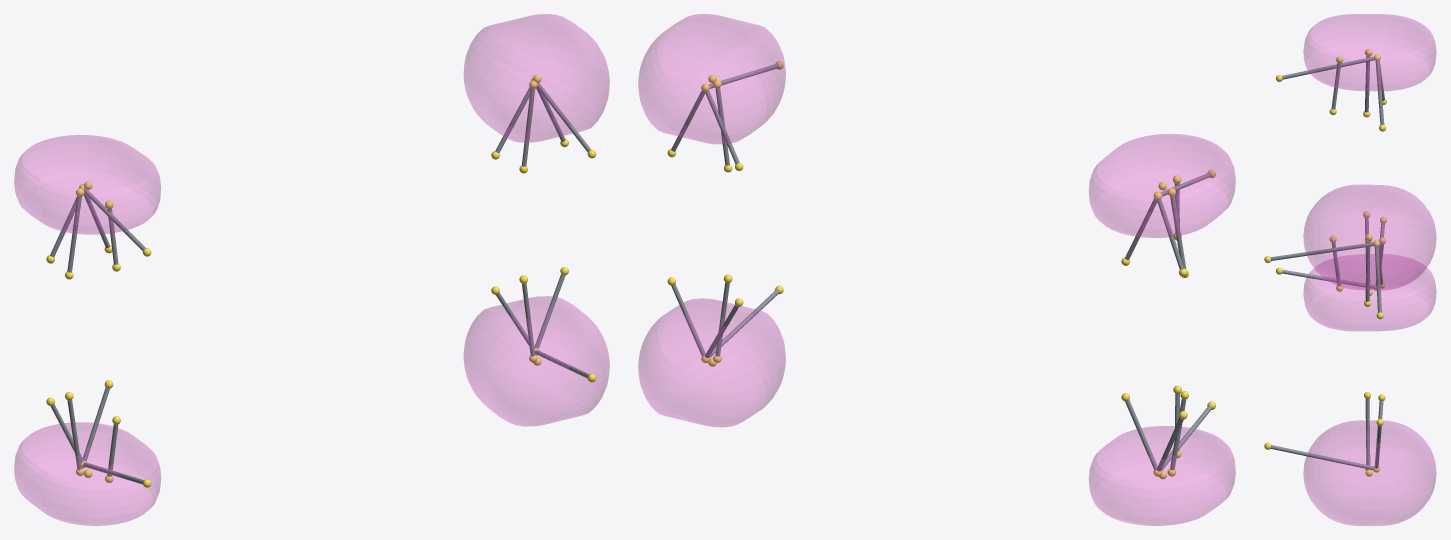
Rendered from modern_car_v2_track_suspension_kinematics.glb.
The picture shows the model from 3 angles, left to right: view 1: azimuth 30°, elevation 25°; view 2: azimuth 150°, elevation 25°; view 3: azimuth 270°, elevation 25°; orthographic projection. The views are drawn at different scales.
Visible parts, largest first — view 1: tyre_sweep_front_right, tyre_sweep_front_left, tyre_sweep_rear_right, tyre_sweep_rear_left; view 2: tyre_sweep_front_right, tyre_sweep_front_left, tyre_sweep_rear_right, tyre_sweep_rear_left; view 3: tyre_sweep_front_right, tyre_sweep_front_left, tyre_sweep_rear_right, tyre_sweep_rear_left, link_front_left_strut_top_ball_joint, link_front_right_strut_top_ball_joint, link_rear_right_damper_top_lower_link_outer, link_rear_left_damper_top_lower_link_outer, link_front_right_lower_arm_front_inner_ball_joint, link_front_left_tie_rod_inner_tie_rod_outer, link_rear_right_lower_link_front_inner_lower_link_outer, link_front_right_tie_rod_inner_tie_rod_outer (+1 smaller).
Boxes of the visible parts, x1,y1,x2,y2 form: tyre_sweep_front_right: [464, 14, 609, 142]; tyre_sweep_front_left: [464, 296, 609, 426]; tyre_sweep_rear_right: [14, 135, 160, 234]; tyre_sweep_rear_left: [14, 422, 160, 525]; tyre_sweep_front_right: [638, 14, 785, 143]; tyre_sweep_front_left: [638, 298, 785, 426]; tyre_sweep_rear_right: [1089, 134, 1235, 237]; tyre_sweep_rear_left: [1089, 426, 1235, 525]; tyre_sweep_front_right: [1303, 184, 1436, 290]; tyre_sweep_front_left: [1303, 420, 1436, 525]; tyre_sweep_rear_right: [1303, 14, 1436, 90]; tyre_sweep_rear_left: [1303, 254, 1436, 330]; link_front_left_strut_top_ball_joint: [1270, 445, 1373, 469]; link_front_right_strut_top_ball_joint: [1270, 242, 1373, 260]; link_rear_right_damper_top_lower_link_outer: [1282, 56, 1374, 79]; link_rear_left_damper_top_lower_link_outer: [1282, 270, 1374, 288]; link_front_right_lower_arm_front_inner_ball_joint: [1374, 246, 1381, 312]; link_front_left_tie_rod_inner_tie_rod_outer: [1365, 398, 1370, 465]; link_rear_right_lower_link_front_inner_lower_link_outer: [1375, 60, 1384, 125]; link_front_right_tie_rod_inner_tie_rod_outer: [1365, 242, 1370, 301].
Bounding box in the file's own units: 3.33 × 2.11 × 1.05.
